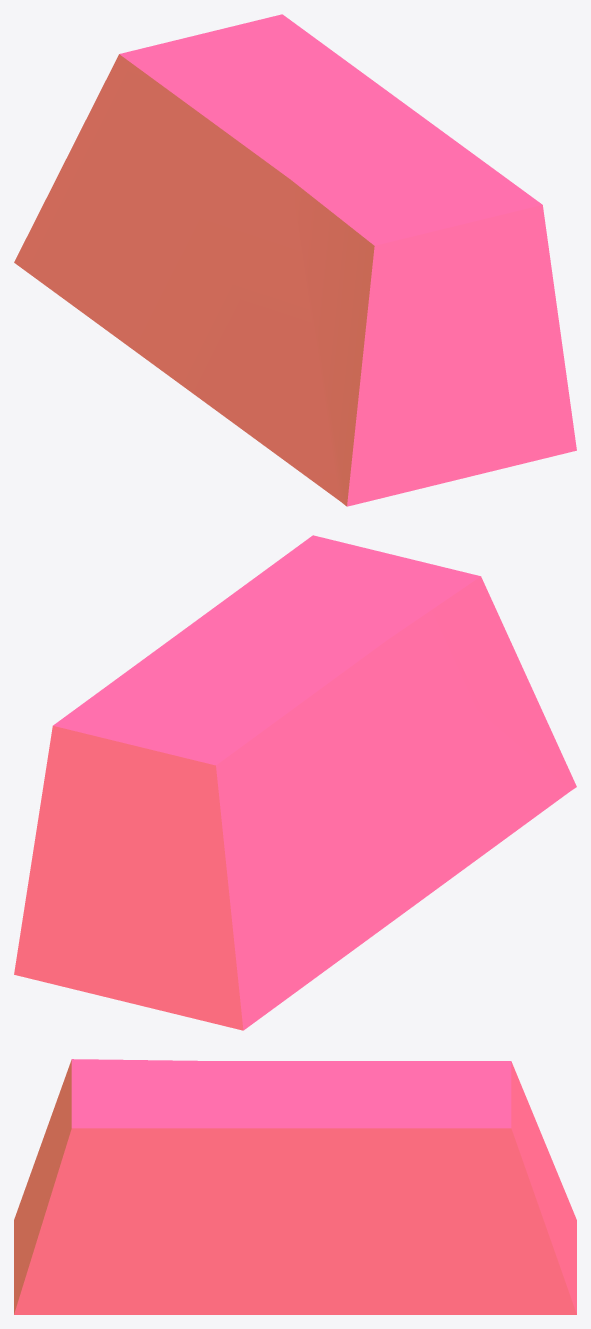
Rendered from chunk-p3.fbx.
3 views of the same model, one above another, from view 1: azimuth 30°, elevation 25°; view 2: azimuth 150°, elevation 25°; view 3: azimuth 270°, elevation 25° (orthographic). The views are drawn at different scales.
Parts seen in each view (by area): view 1: pCube11; view 2: pCube11; view 3: pCube11.
Part boxes in pixels (<box>): pCube11: <box>14,14,576,506</box>; pCube11: <box>14,535,576,1030</box>; pCube11: <box>14,1059,576,1314</box>.
Size of the model in its own units: 3.91 by 3.58 by 9.81.
